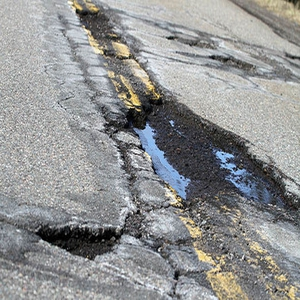pothole: (117, 96, 300, 227), (36, 219, 123, 261)
